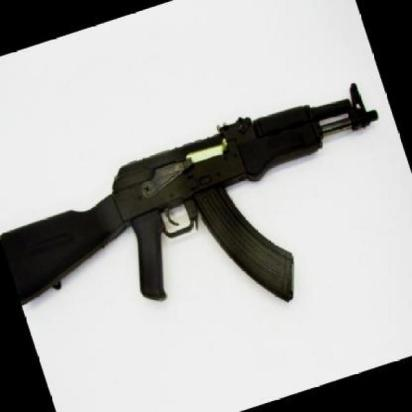Gun: (9, 81, 380, 322)
